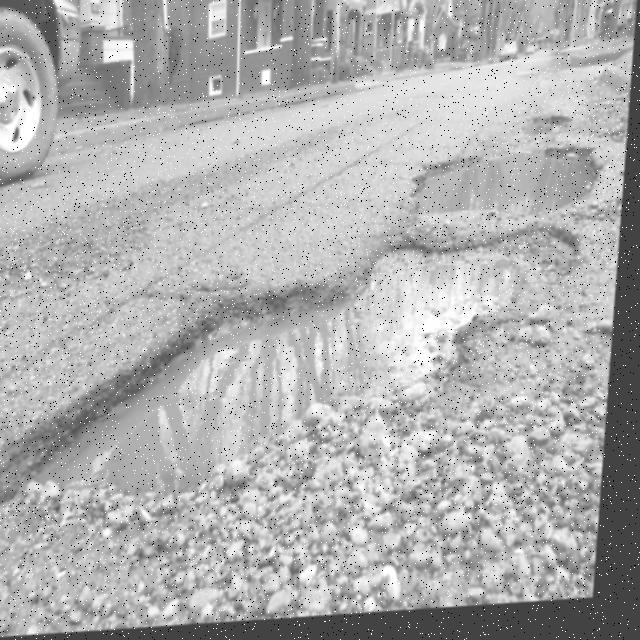pothole: (2, 234, 588, 523), (414, 107, 610, 234)
